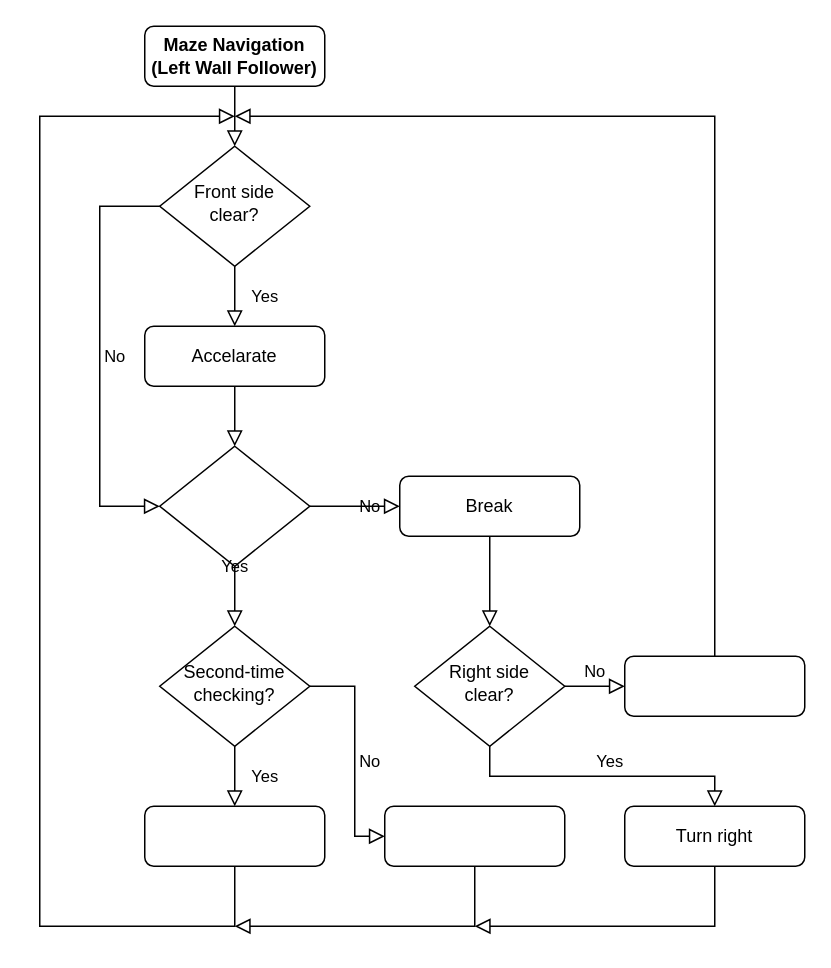
The diagram is 831 pixels wide and 968 high, and some of its shapes have lost their labels. Here are the shapes that lost their labels. From the top down, the box of each, then its label:
(158, 445, 310, 566): Left side clear?
(623, 655, 805, 716): U-turn
(143, 805, 325, 866): Accelerate
(383, 805, 565, 866): Turn left
